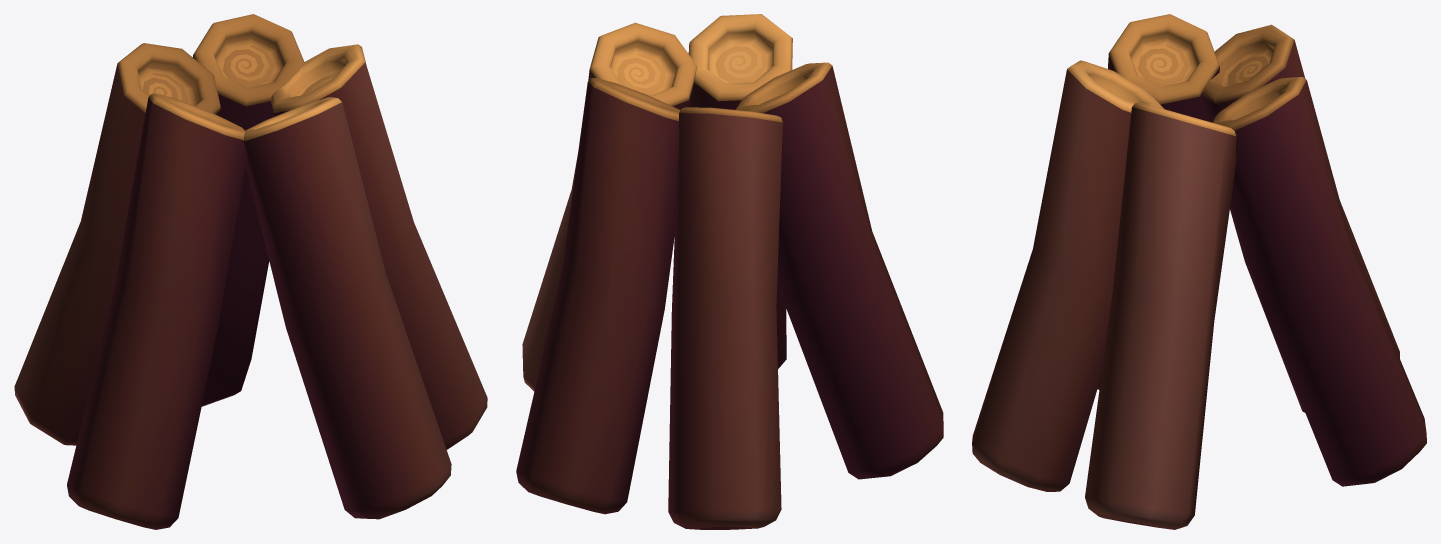
Rendered from SM_campfire_003.fbx.
The picture shows the model from 3 angles, left to right: view 1: azimuth 30°, elevation 25°; view 2: azimuth 150°, elevation 25°; view 3: azimuth 270°, elevation 25°; orthographic projection.
Parts seen in each view (by area): view 1: SM_campfire_003; view 2: SM_campfire_003; view 3: SM_campfire_003.
Boxes of the visible parts, bbox=[...] form: SM_campfire_003: bbox=[14, 14, 487, 529]; SM_campfire_003: bbox=[516, 14, 943, 529]; SM_campfire_003: bbox=[972, 14, 1426, 529].
Bounding box in the file's own units: 82.45 × 77.61 × 80.76.
